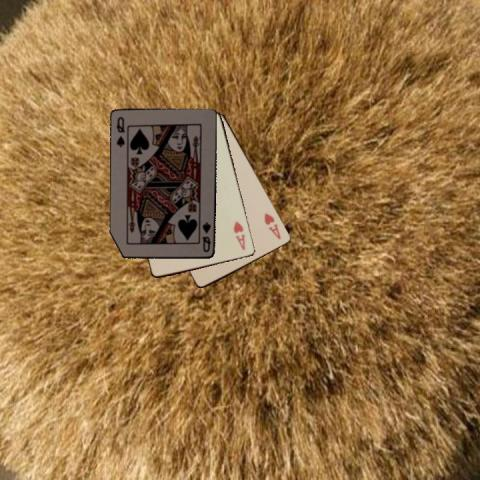Ah: (261, 210, 283, 241), (230, 218, 246, 252)
Qs: (198, 219, 212, 254), (113, 114, 127, 148)
